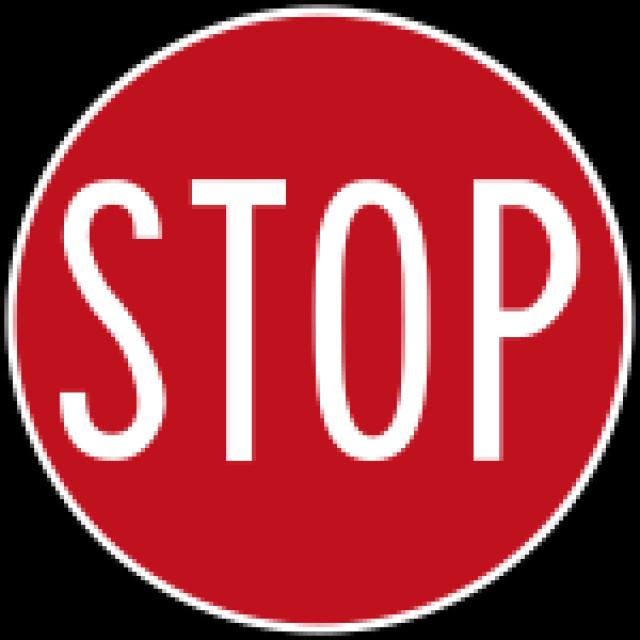Traffic sign: (19, 47, 621, 559)
